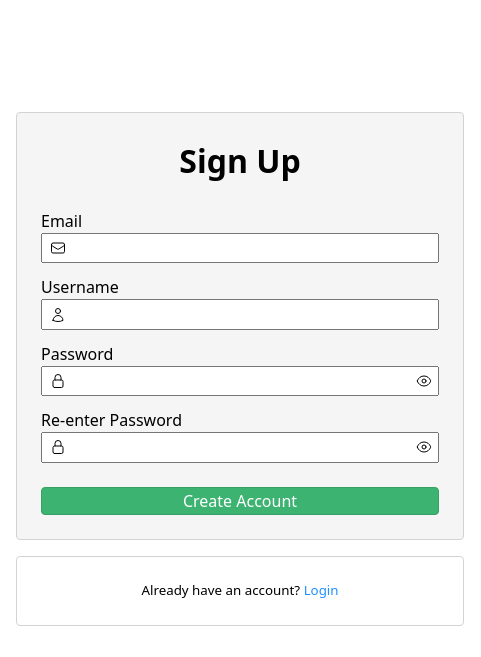
Test: SignupPage › should display errors when signup button clicked and inputs invalid (email=false, user=false, pass=false, passMatch=false)
Type "email" into the field labelled "Email" at (240, 248), box [41, 233, 439, 263]
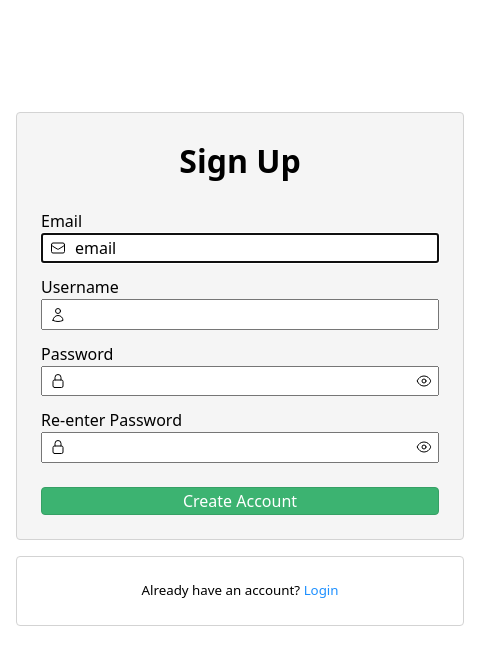
Type "user" into the field labelled "Username" at (240, 315), box [41, 299, 439, 330]
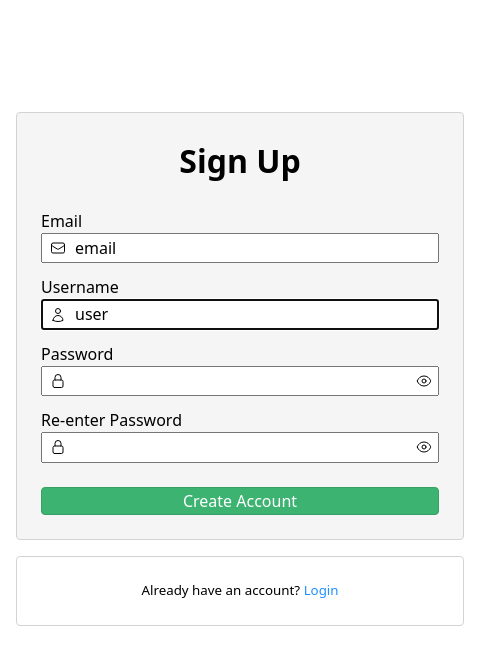
Type "pass" into the password field labelled "Password" at (240, 381), box [41, 366, 439, 396]
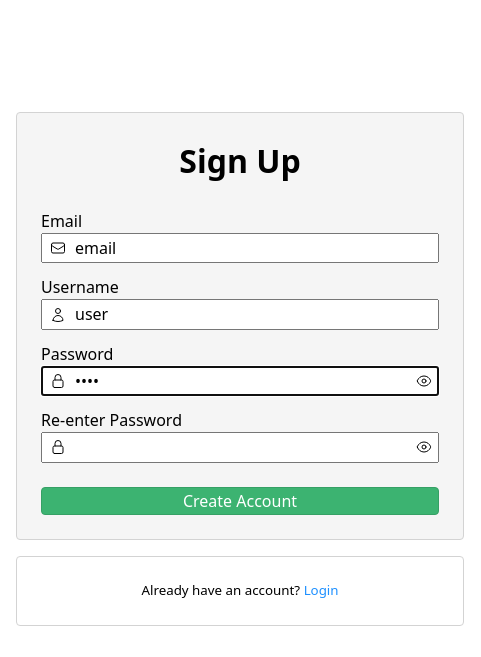
Type "different-pass" into the password field labelled "Re-enter Password" at (240, 447), box [41, 432, 439, 463]
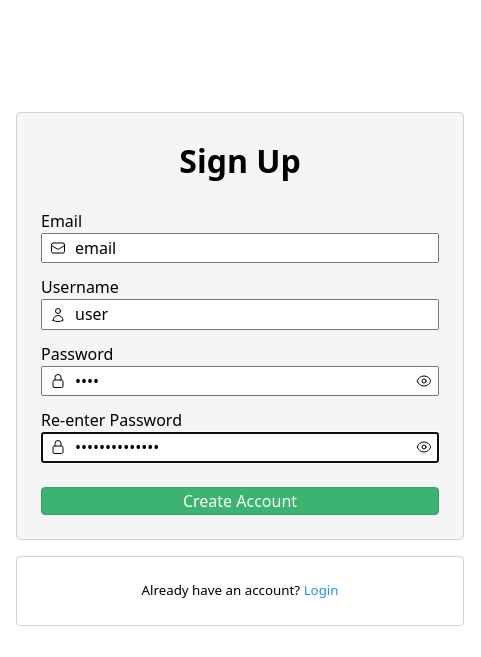
Click the button "Create Account" at (240, 501), box [41, 487, 439, 515]
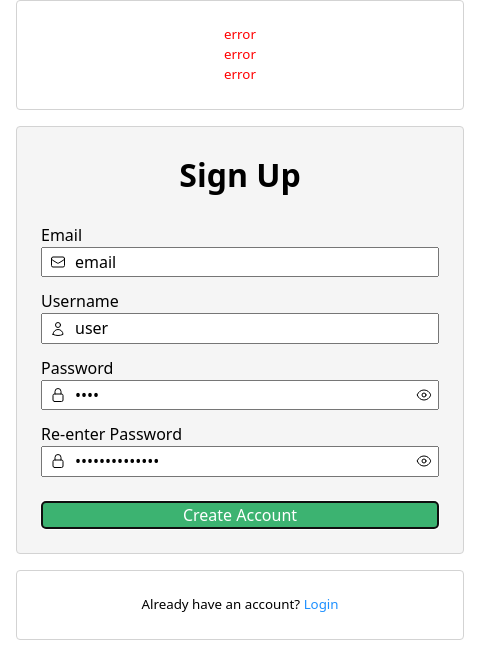
Check: the text "error" is shown 3 times, box [224, 25, 256, 45]; [224, 45, 256, 65]; [224, 65, 256, 85]
